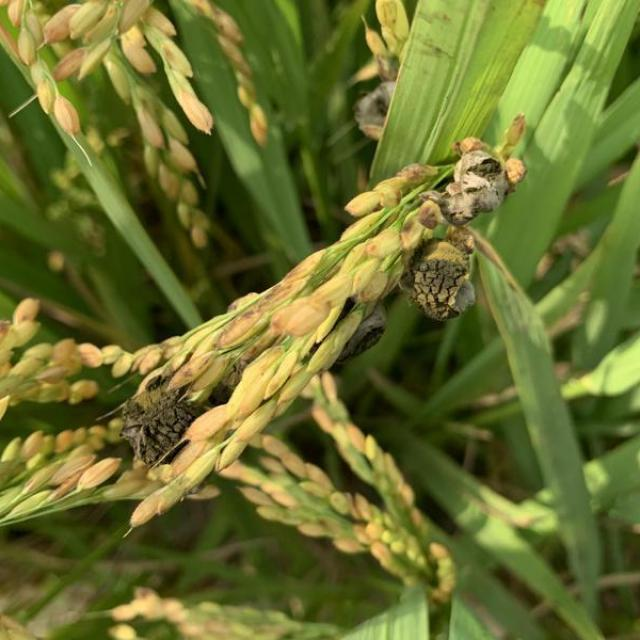Leaf_Scald: (399, 237, 482, 323), (118, 382, 200, 466), (431, 146, 513, 228), (307, 298, 389, 369), (354, 82, 400, 136)
